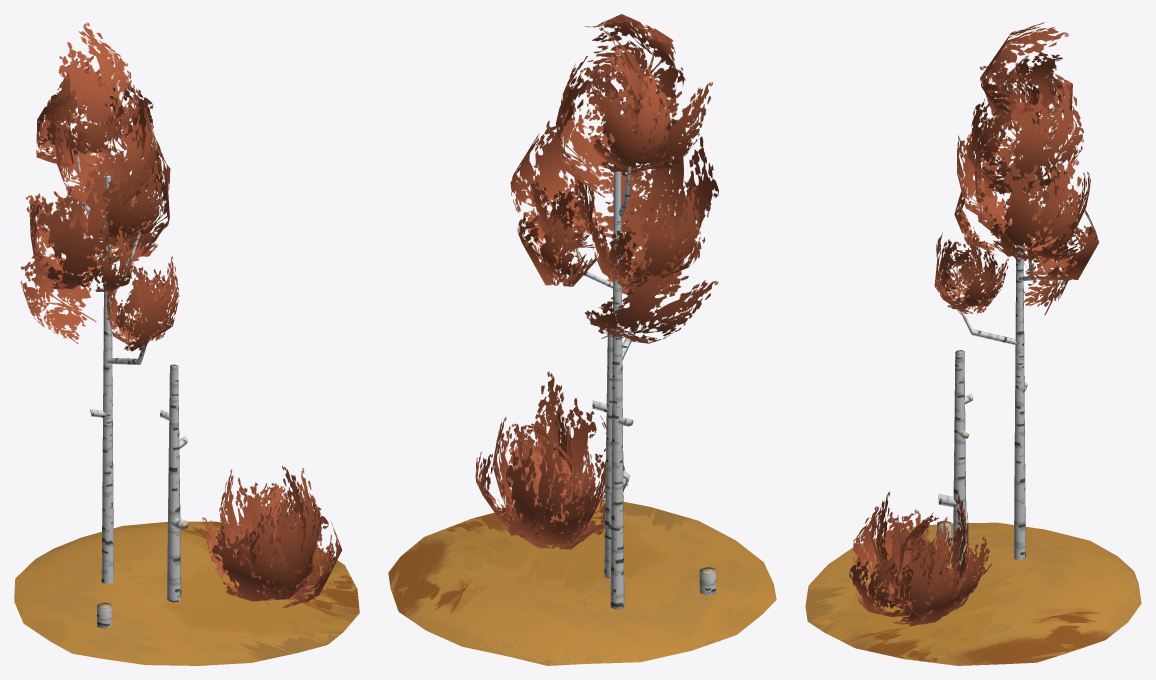
The model's file is trees.glb.
The picture shows the model from 3 angles, left to right: view 1: azimuth 30°, elevation 25°; view 2: azimuth 150°, elevation 25°; view 3: azimuth 270°, elevation 25°; orthographic projection. The views are drawn at different scales.
Parts seen in each view (by area): view 1: birch1_leaves, surface, bush_leaves, birch1_trunk, birch2_trunk; view 2: surface, birch1_leaves, bush_leaves, birch1_trunk, birch2_trunk; view 3: surface, birch1_leaves, bush_leaves, birch1_trunk, birch2_trunk.
Part boxes in pixels (bbox=[...]): birch1_leaves: bbox=[20, 22, 179, 351]; surface: bbox=[14, 521, 359, 665]; bush_leaves: bbox=[202, 466, 342, 608]; birch1_trunk: bbox=[77, 156, 149, 584]; birch2_trunk: bbox=[160, 364, 189, 602]; surface: bbox=[388, 500, 776, 665]; birch1_leaves: bbox=[510, 14, 718, 343]; bush_leaves: bbox=[475, 371, 627, 549]; birch1_trunk: bbox=[571, 156, 639, 609]; birch2_trunk: bbox=[592, 328, 630, 579]; surface: bbox=[805, 522, 1141, 665]; birch1_leaves: bbox=[934, 22, 1098, 315]; bush_leaves: bbox=[849, 490, 992, 626]; birch1_trunk: bbox=[951, 174, 1037, 560]; birch2_trunk: bbox=[938, 350, 973, 580].
Size of the model in its own units: 0.7081 by 1.25 by 0.7026.
3 materials, 3 textured.
